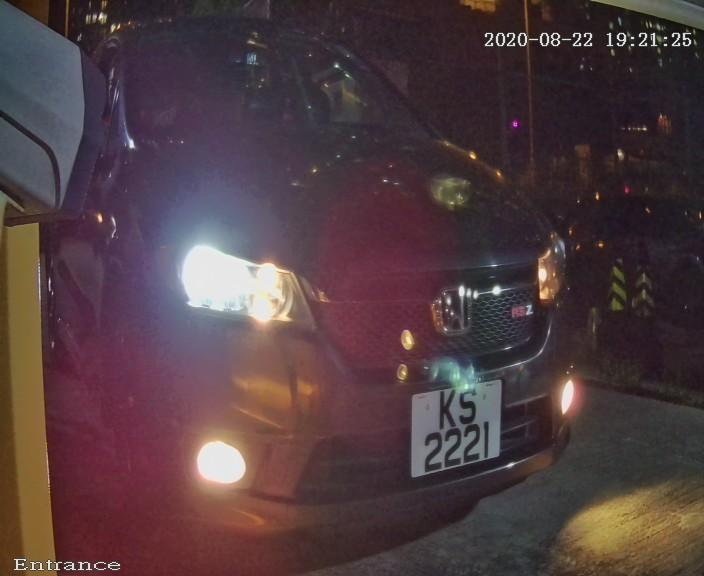Car: (26, 1, 639, 576)
License Plate: (400, 361, 516, 484)
